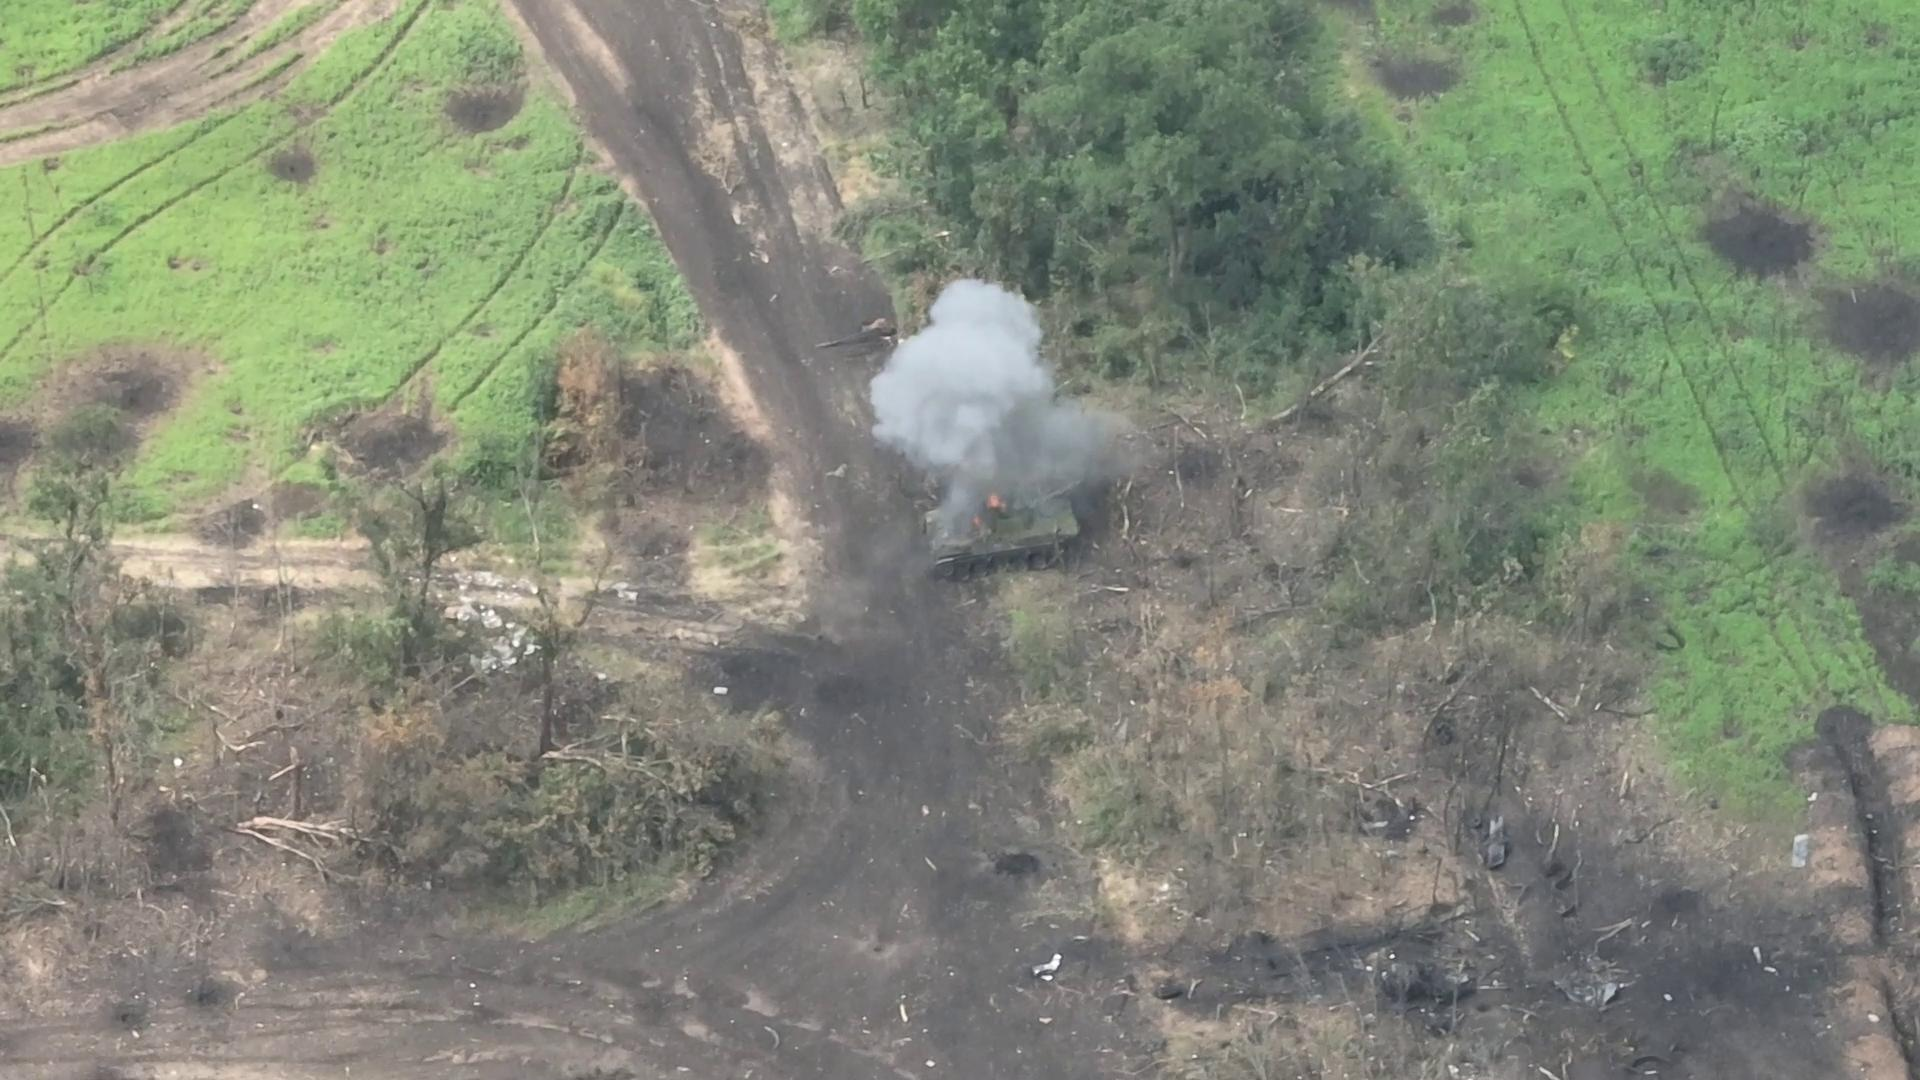tank: (920, 473, 1088, 585)
